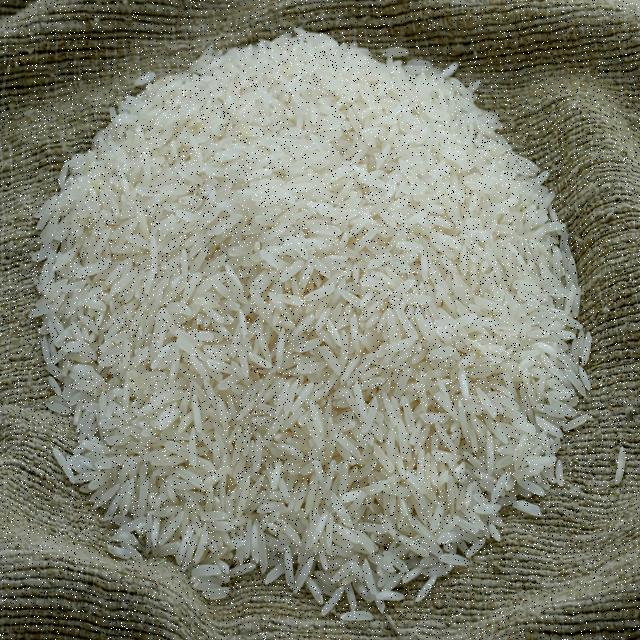Rice: (83, 93, 557, 474)
